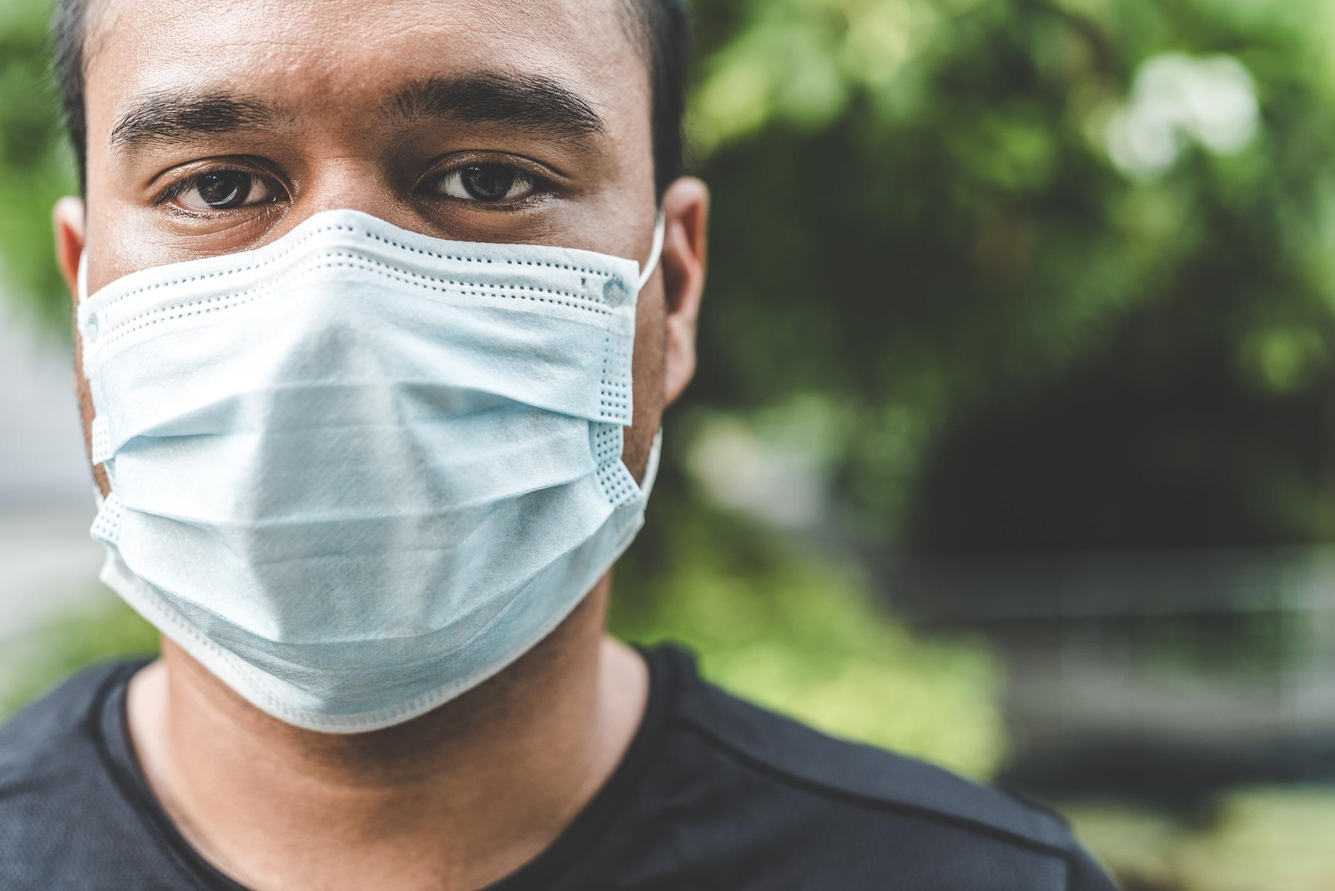mask: (50, 193, 662, 760)
